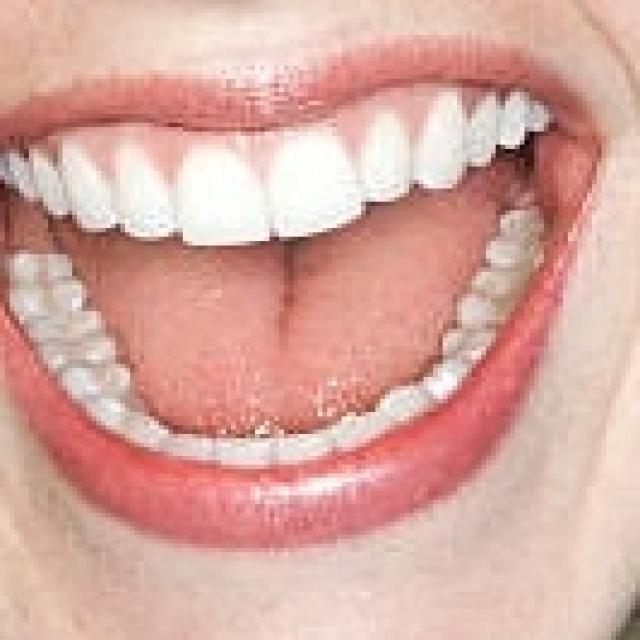open-mouth: (0, 26, 606, 552)
